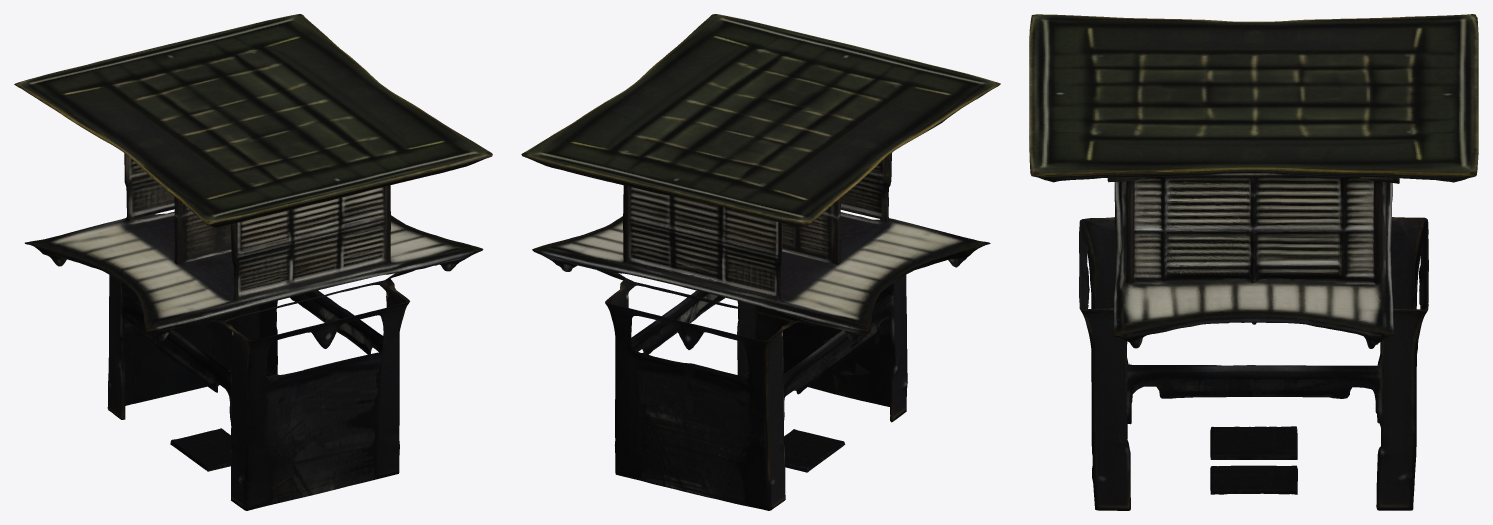
The model's file is trellis_result.glb.
3 views of the same model, side by side, from view 1: azimuth 30°, elevation 25°; view 2: azimuth 150°, elevation 25°; view 3: azimuth 270°, elevation 25° (orthographic). The views are drawn at different scales.
Visible parts, largest first — view 1: world; view 2: world; view 3: world.
Boxes of the visible parts, box(x1,y1,x2,y2) form: world: box(14, 14, 492, 510); world: box(521, 14, 1000, 510); world: box(1029, 14, 1478, 510).
Size of the model in its own units: 0.999 by 0.9205 by 1.
1 material, 1 textured.
